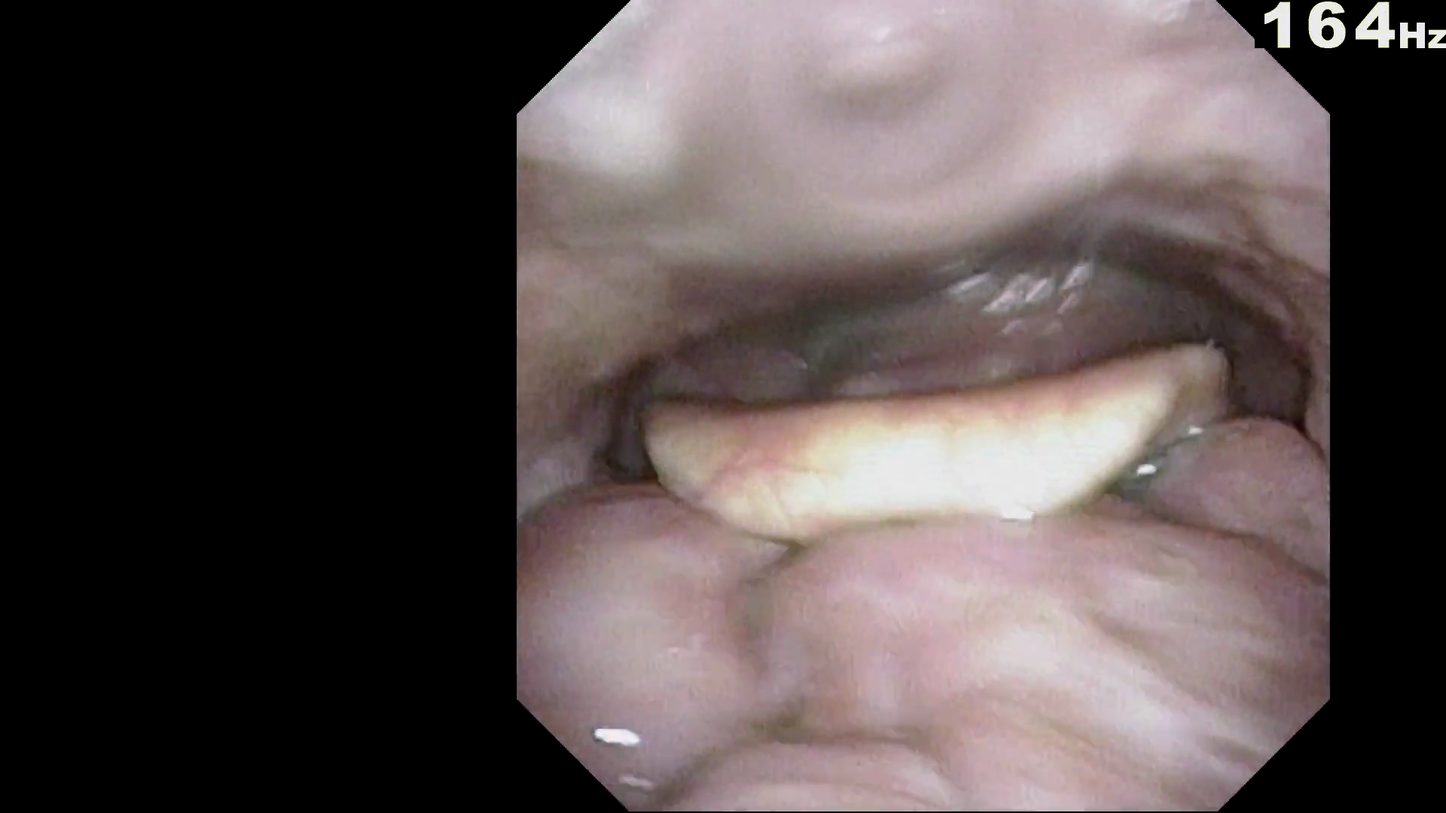epiglottis: (673, 432, 1240, 576)
